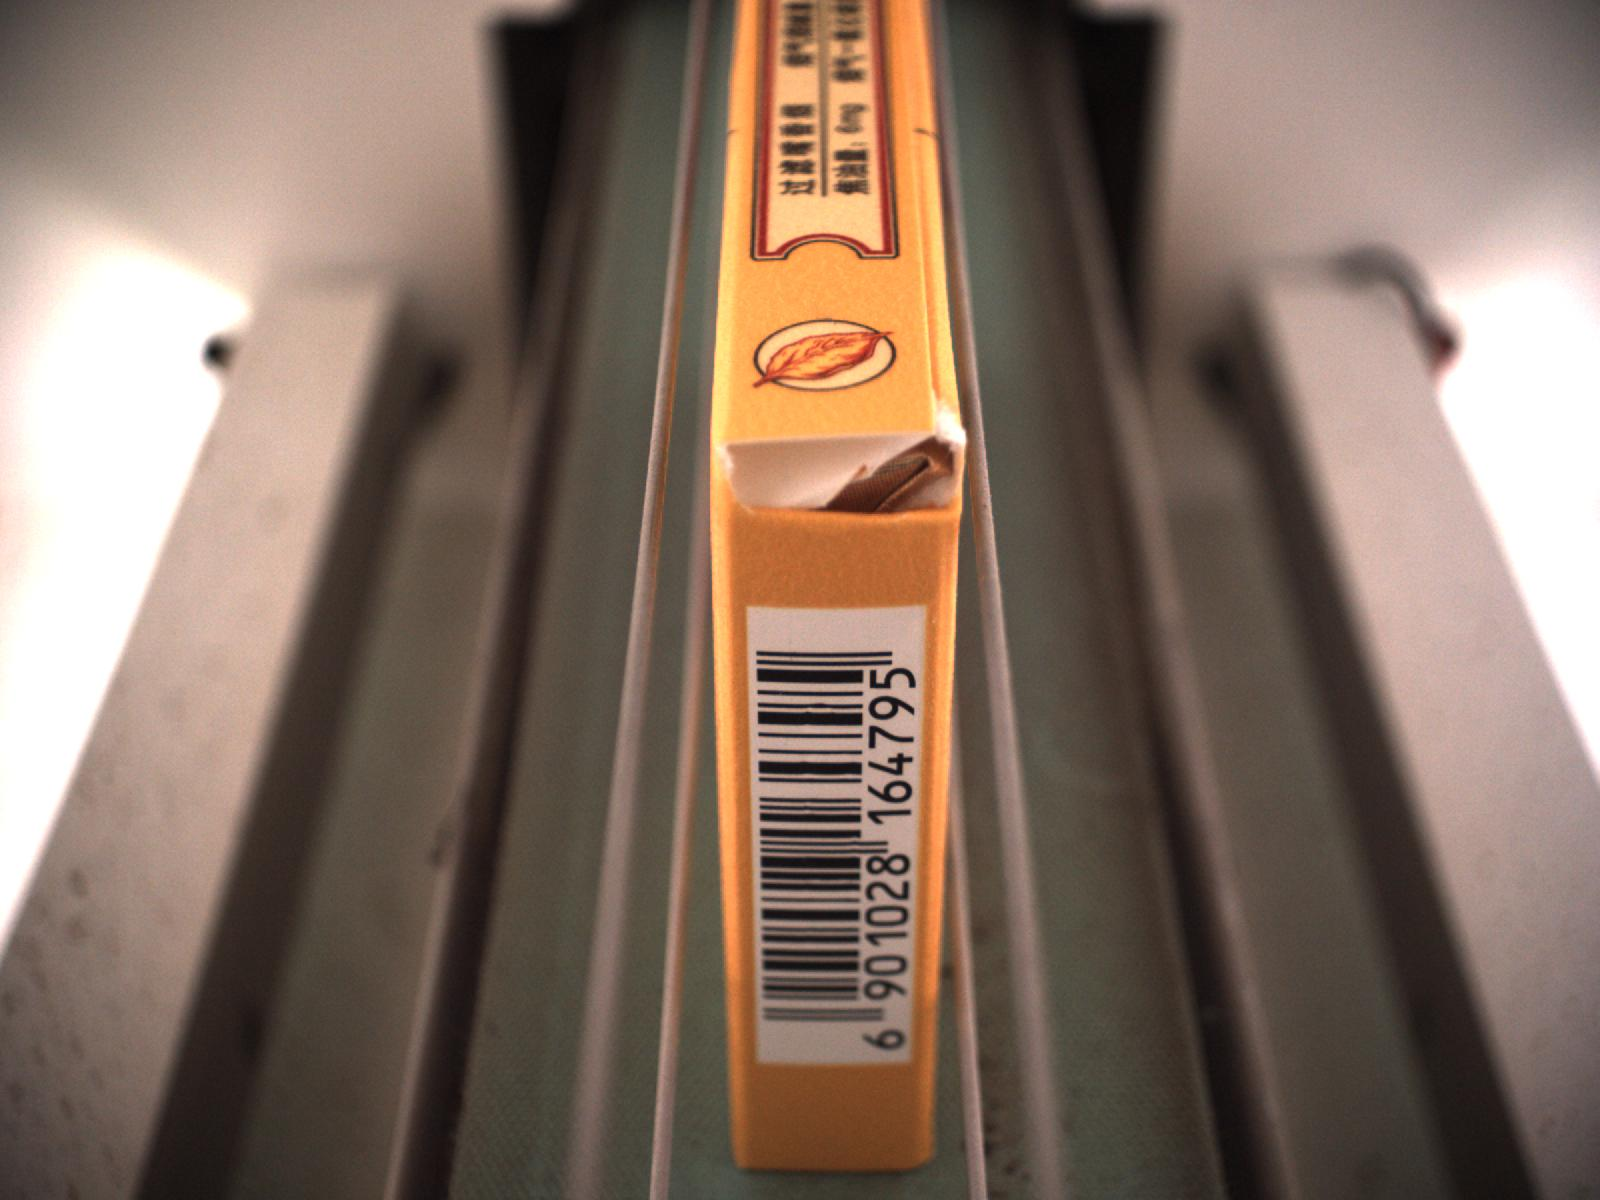cornerBreak: (711, 410, 970, 551)
